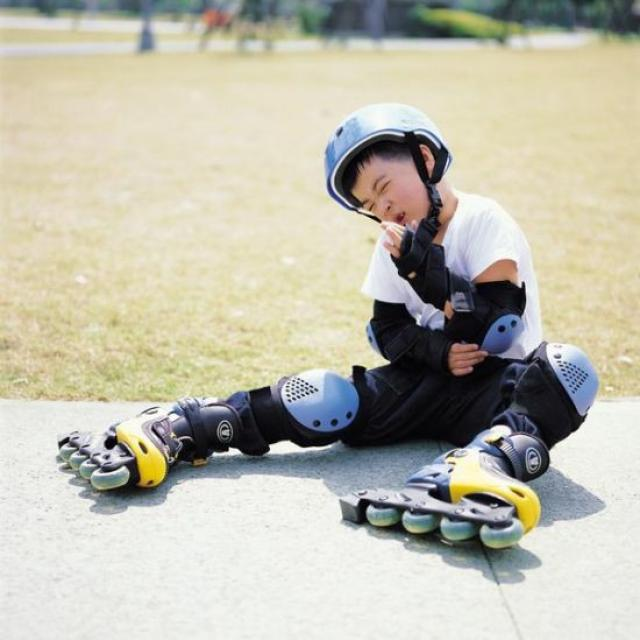Fall: (47, 109, 608, 556)
